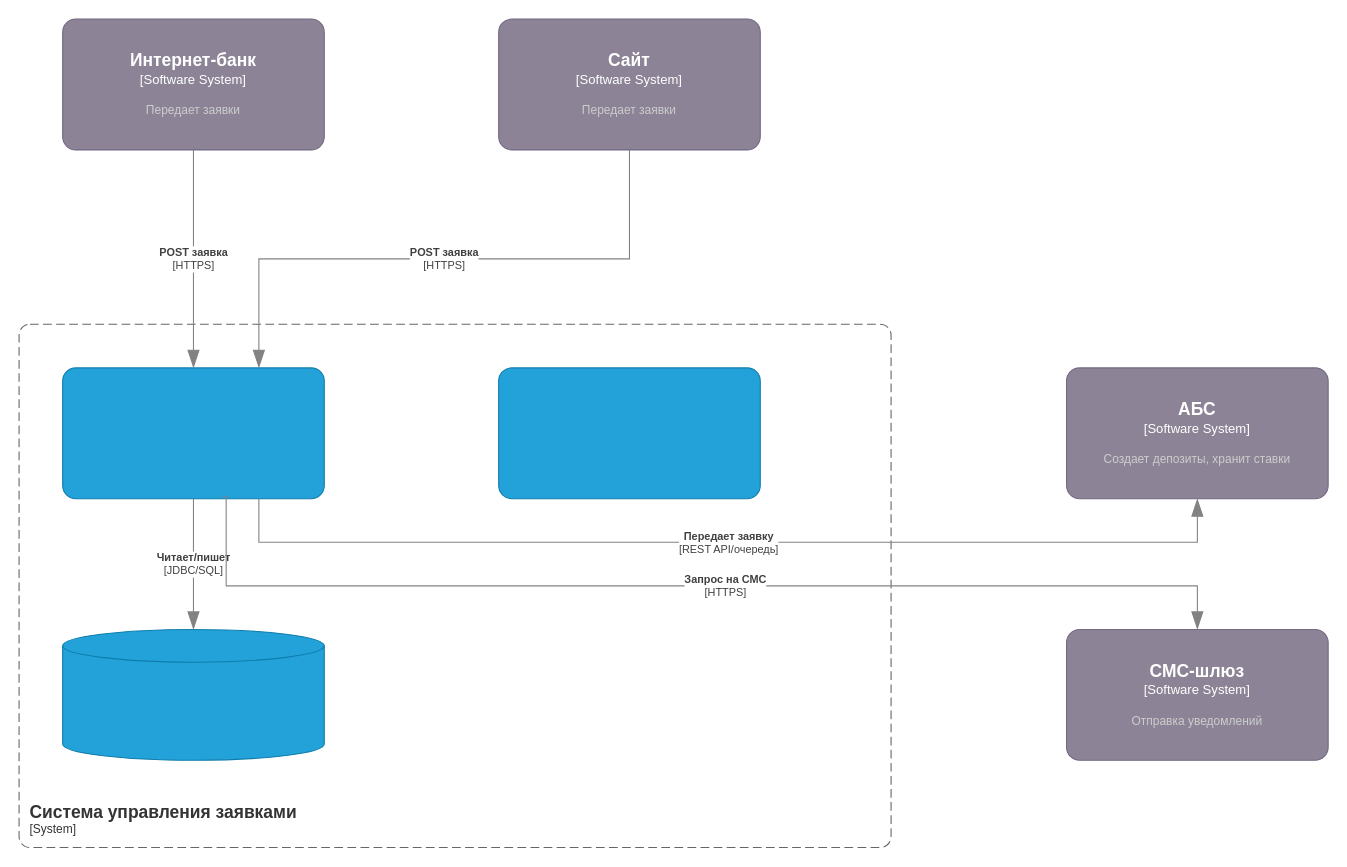
Image size: 1347x867. Some labels were removed from this diagram. The box of each missing label's shape, as (x1, y1, x2, y2) in pixels:
API шлюз [Container: REST API] Обеспечивает взаимодействие с АБС: (62, 367, 324, 499)
Web-приложение заявок [Container: ASP.NET Core] Обработка заявок из ИБ и сайта: (498, 367, 760, 499)
БД заявок [Container: MS SQL] Хранит заявки, статусы, журнал: (62, 628, 324, 760)
